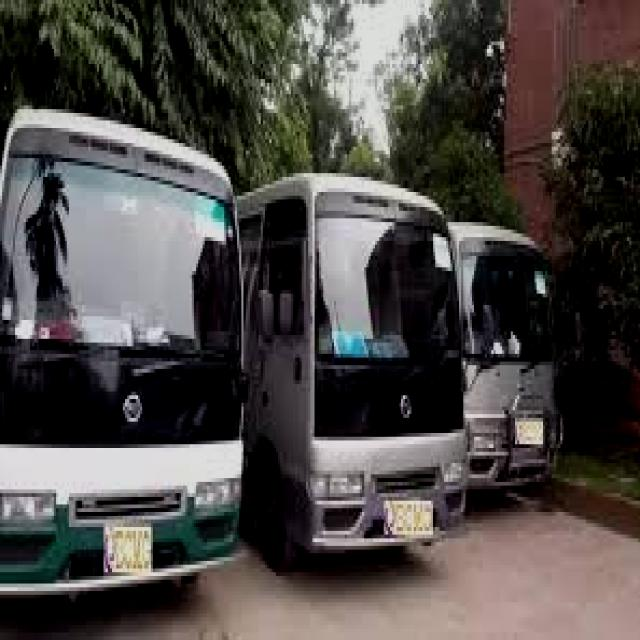bus: (1, 76, 253, 622), (240, 129, 466, 557), (450, 157, 572, 518)
